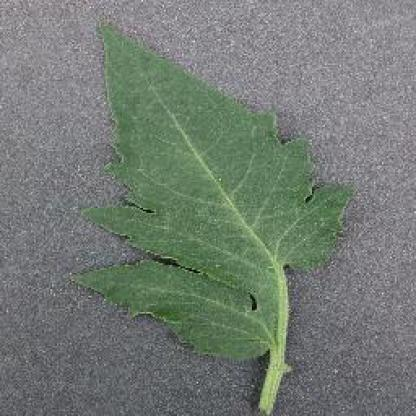good leaf: (62, 15, 364, 412)
